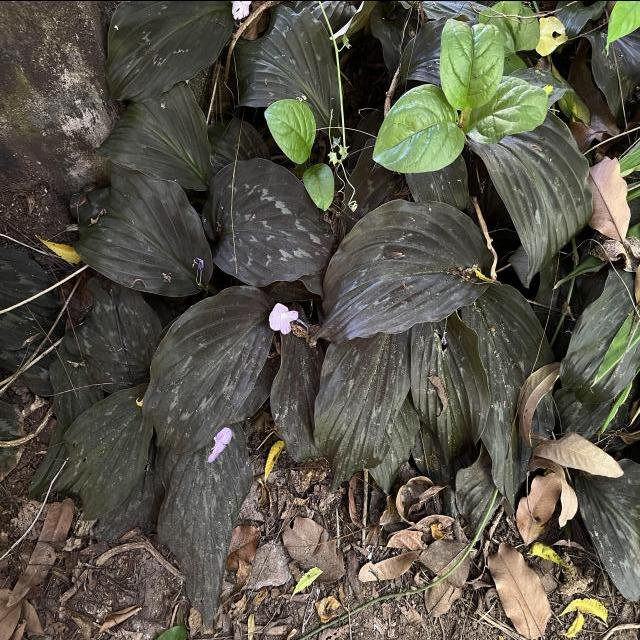Kaempferia galanga linn: (308, 196, 497, 344), (138, 282, 278, 458), (70, 154, 216, 298), (154, 422, 255, 630), (199, 154, 333, 290), (311, 327, 412, 496), (49, 380, 156, 522)
